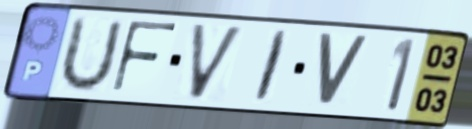1: (385, 35, 418, 115)
F: (108, 17, 182, 98)
I: (250, 28, 293, 107)
U: (54, 13, 127, 95)
V: (188, 21, 248, 104), (315, 30, 372, 111)
